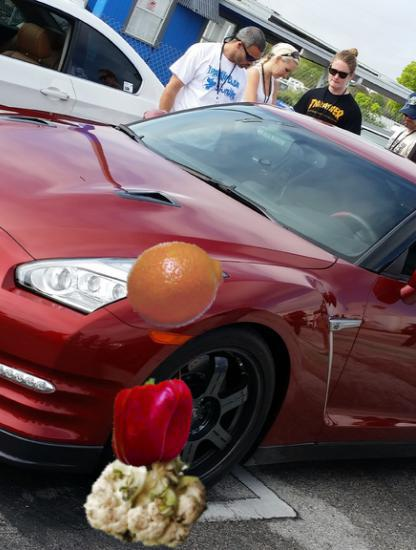Cauliflower: (86, 420, 214, 548)
Pepper: (106, 377, 200, 471)
Tangelo: (126, 233, 226, 333)
